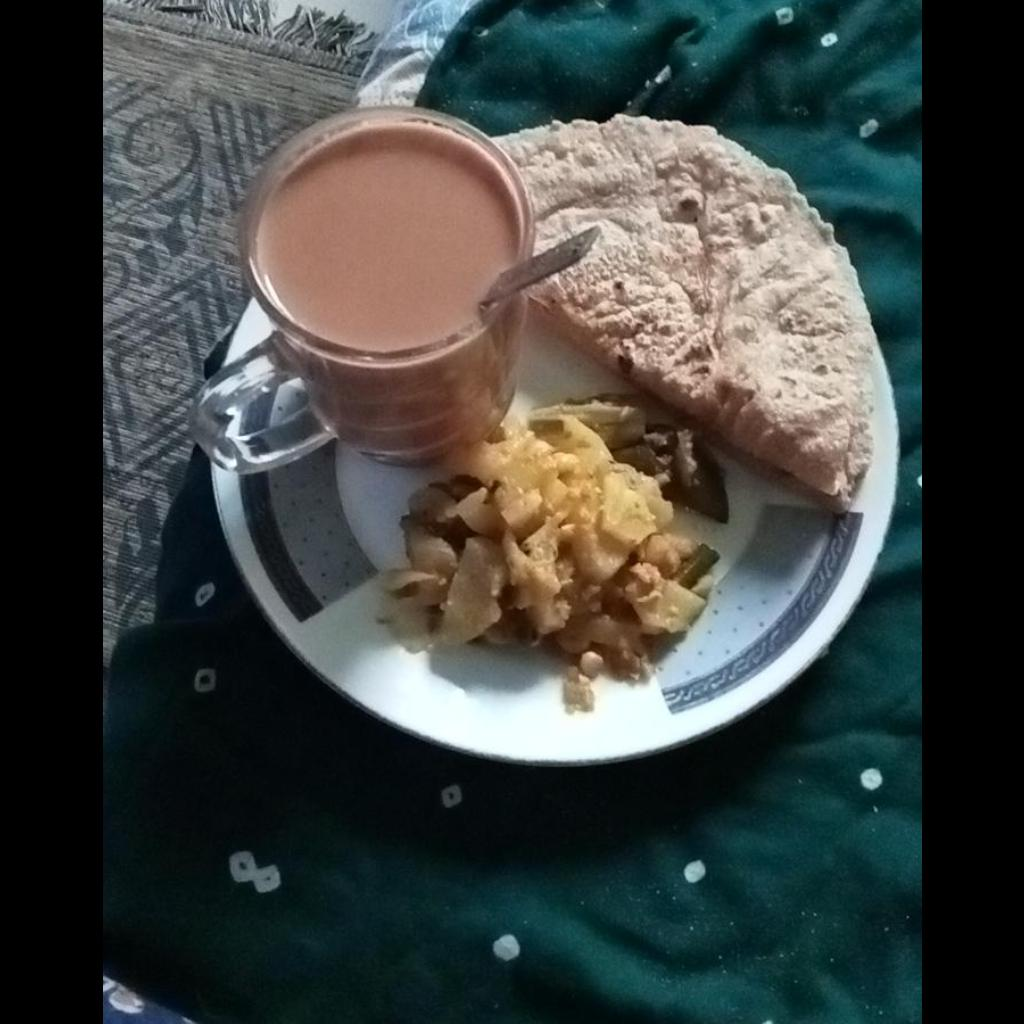cha: (262, 124, 517, 346)
ruti: (503, 117, 872, 494)
vegetable: (376, 391, 735, 711)
